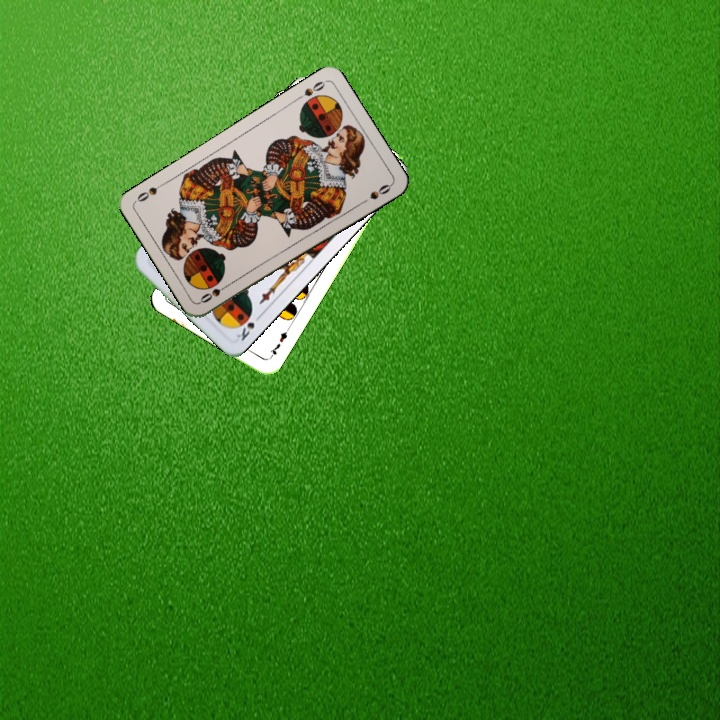E7: (265, 324, 291, 361)
SK: (231, 309, 265, 344)
SO: (196, 279, 233, 306), (291, 77, 328, 103)
